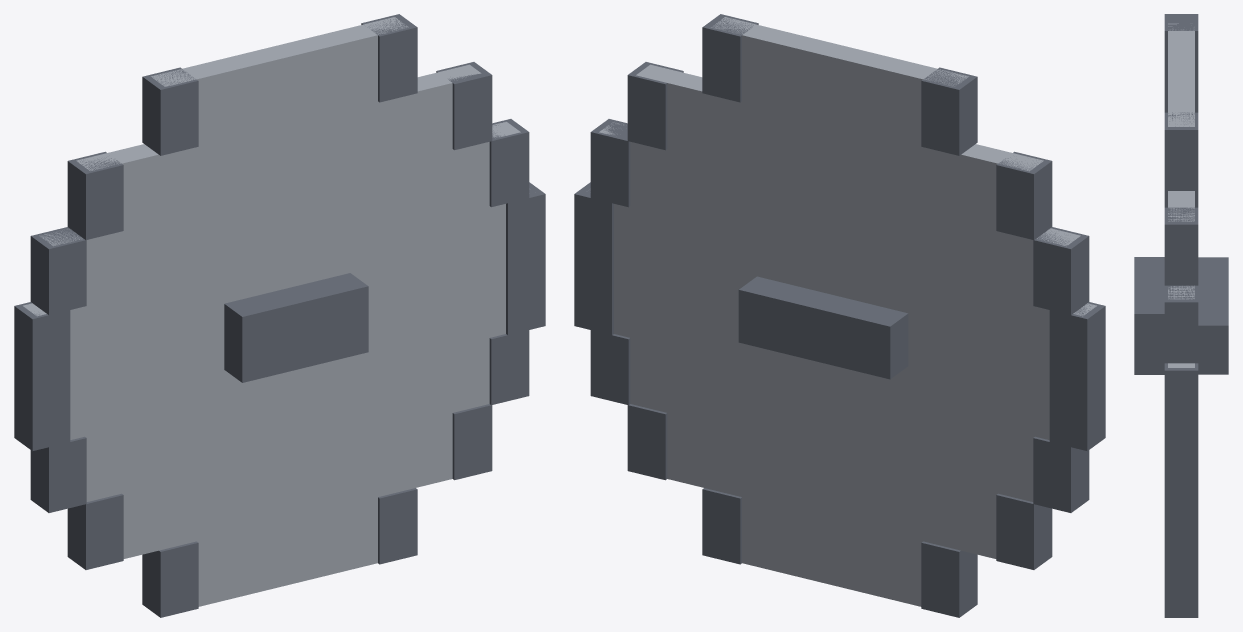
The model's file is lid.glb.
The picture shows the model from 3 angles, left to right: view 1: azimuth 30°, elevation 25°; view 2: azimuth 150°, elevation 25°; view 3: azimuth 270°, elevation 25°; orthographic projection. The views are drawn at different scales.
Visible parts, largest first — view 1: lid; view 2: lid; view 3: lid.
Boxes of the visible parts, box(x1,y1,x2,y2) form: lid: box(14, 14, 545, 617); lid: box(574, 14, 1105, 617); lid: box(1134, 14, 1228, 617).
Size of the model in its own units: 0.4069 by 0.4 by 0.07.
1 material, 1 textured.
